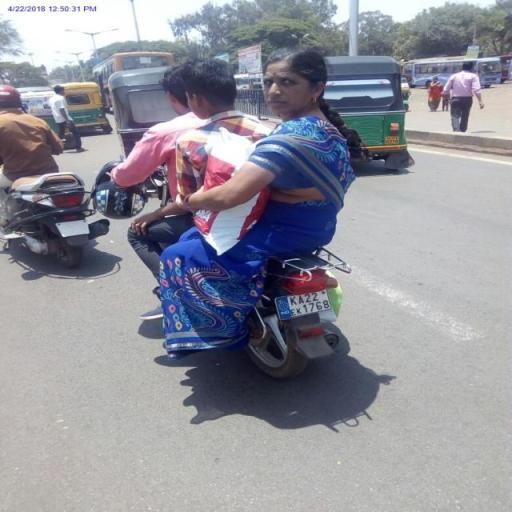tripple riding: (100, 45, 378, 254)
